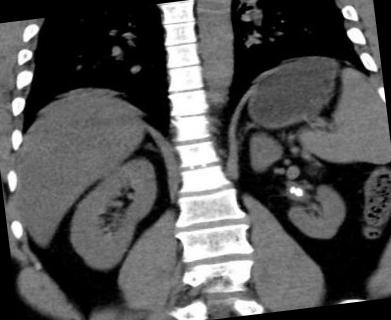Tas_Var: (294, 186, 304, 196), (288, 184, 296, 194)
